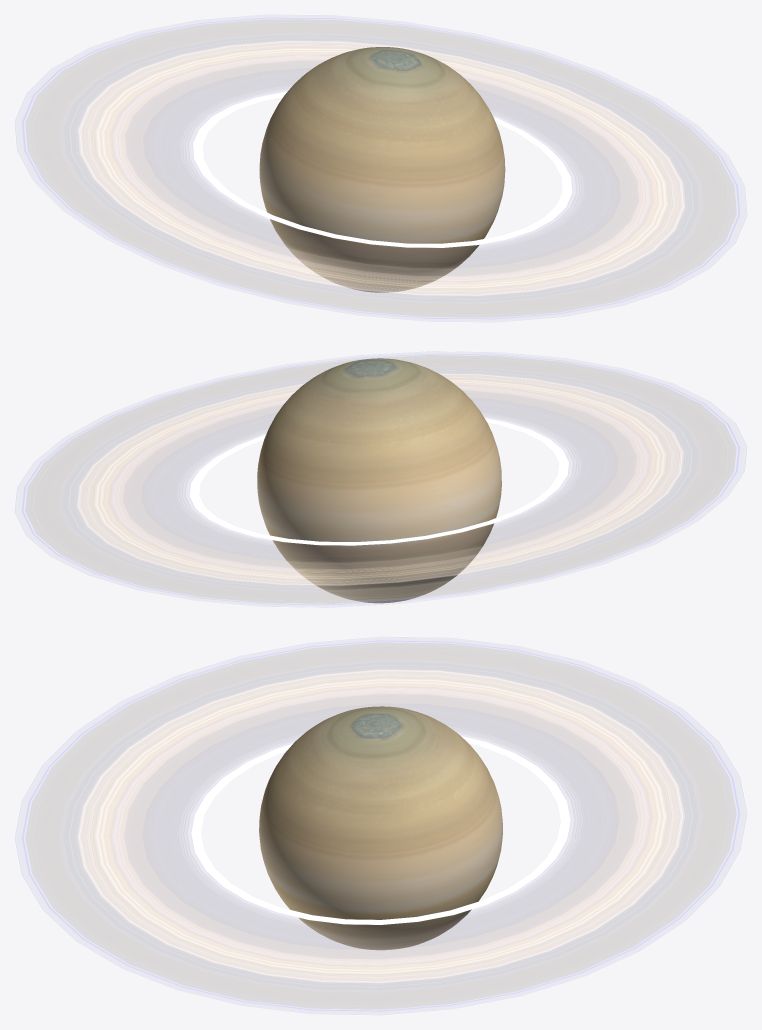
File: saturn.glb
3 renders of one model, top to bottom at view 1: azimuth 30°, elevation 25°; view 2: azimuth 150°, elevation 25°; view 3: azimuth 270°, elevation 25°, orthographic.
Parts seen in each view (by area): view 1: saturn ring; view 2: saturn ring; view 3: saturn ring.
Boxes of the visible parts, bbox=[...] form: saturn ring: bbox=[14, 14, 747, 322]; saturn ring: bbox=[14, 351, 747, 607]; saturn ring: bbox=[14, 636, 747, 1015].
Bounding box in the file's own units: 40.07 × 13.39 × 40.26.
Materials: 2 (2 with a texture image).
